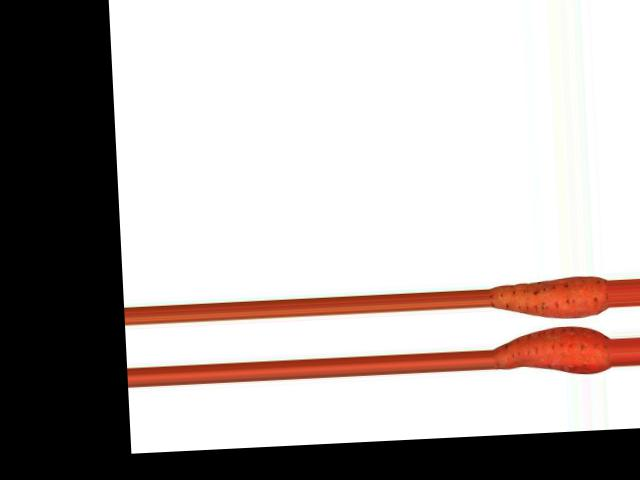sweet_potato: (492, 276, 610, 322)
